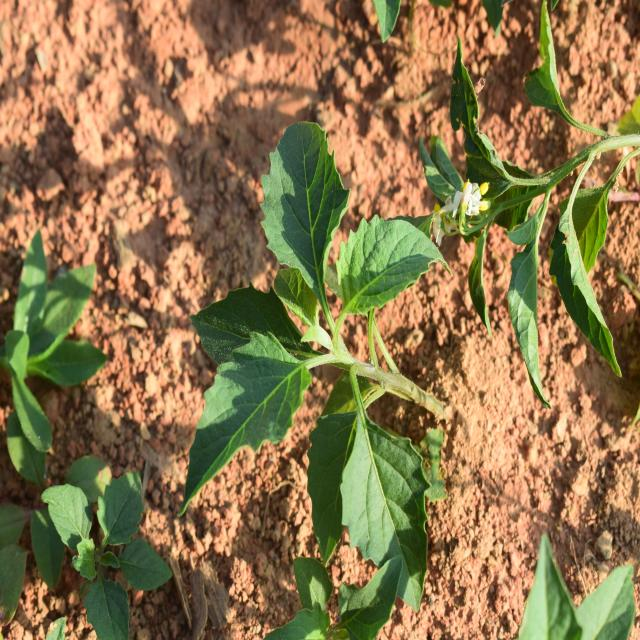Black_nightshade: (195, 155, 445, 602)
